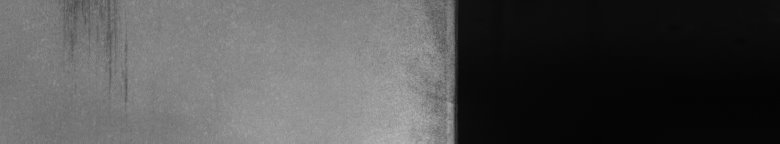ka: (65, 4, 128, 102)
